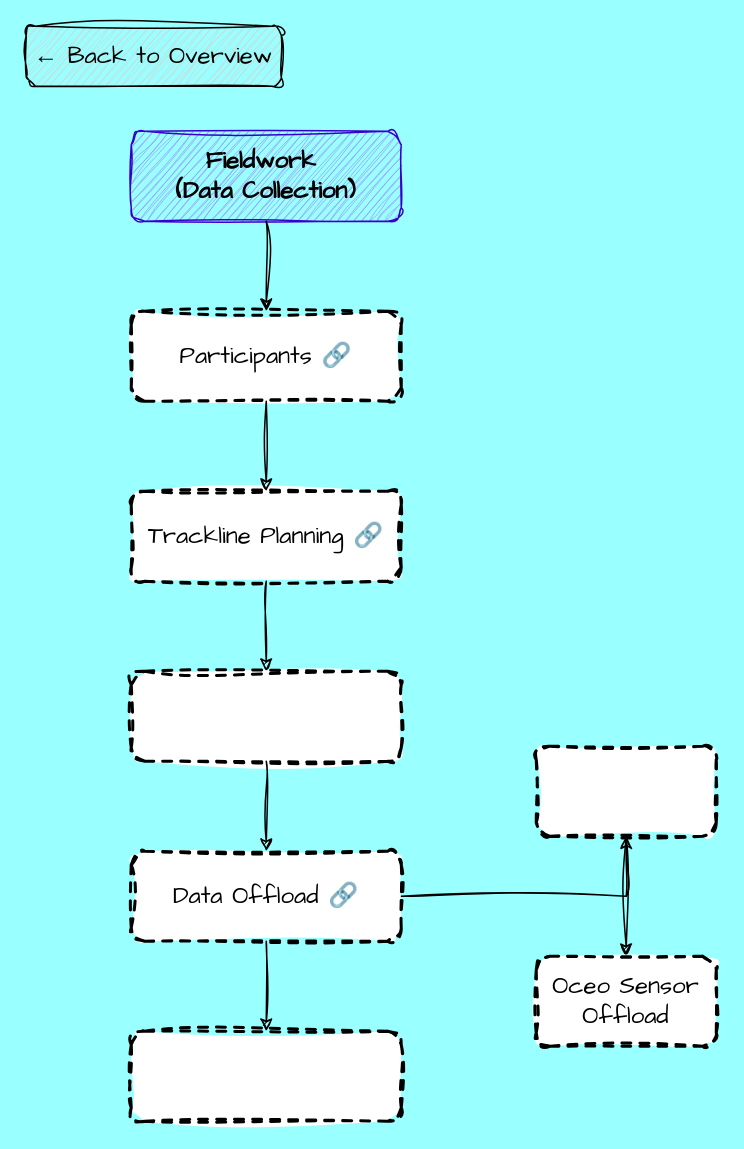
This 744x1149 diagram has some shape labels left out. Each missing label, with the centre of its shape:
Communications 🔗: point (265, 715)
Field Report/Mission Summary Report 🔗: point (265, 1075)
PAM Data Offload: point (625, 790)
